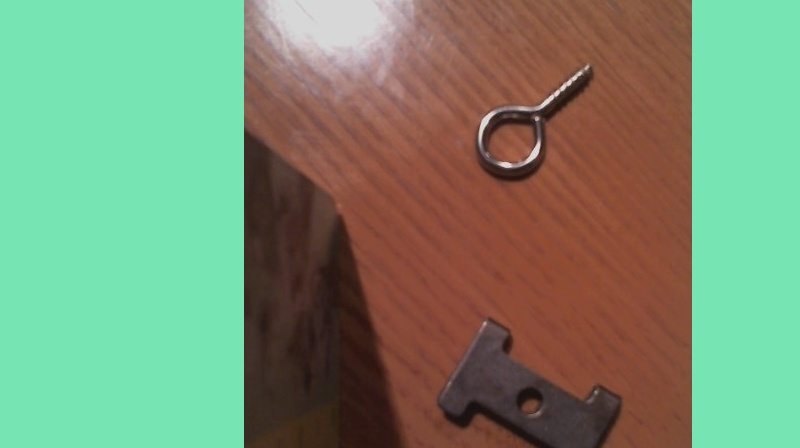O001: (471, 61, 599, 178)
O002: (435, 314, 624, 447)
